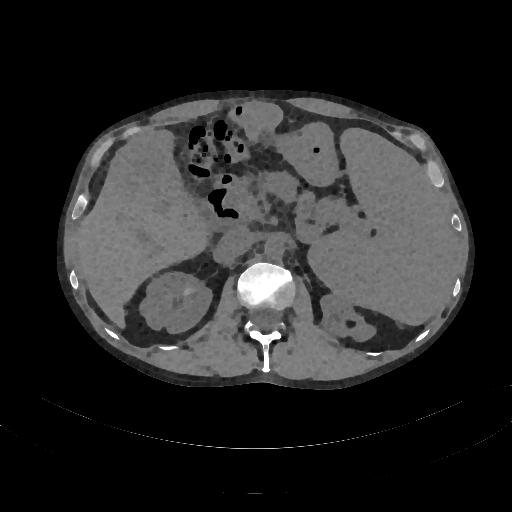Lesion: (176, 285, 198, 301)
